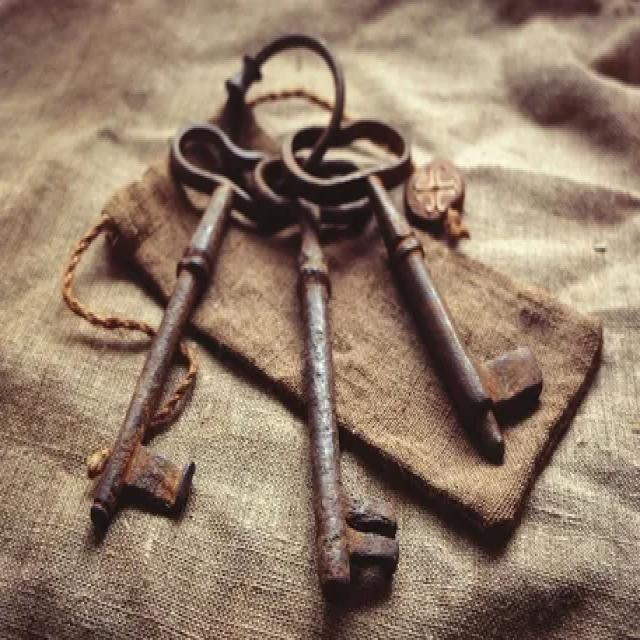key: (88, 96, 273, 544)
